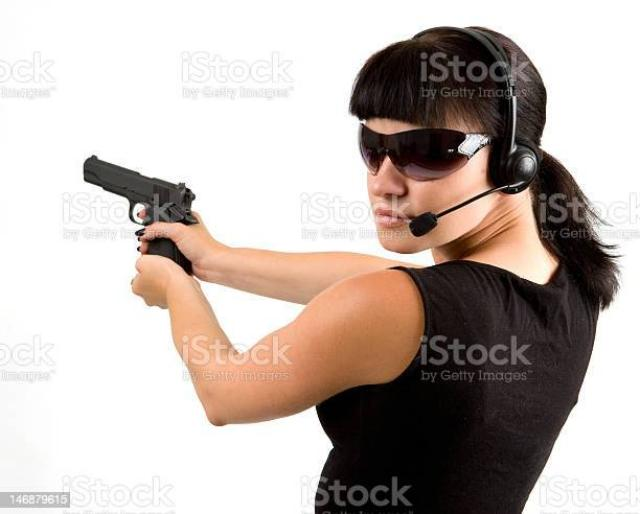handgun: (80, 152, 200, 282)
